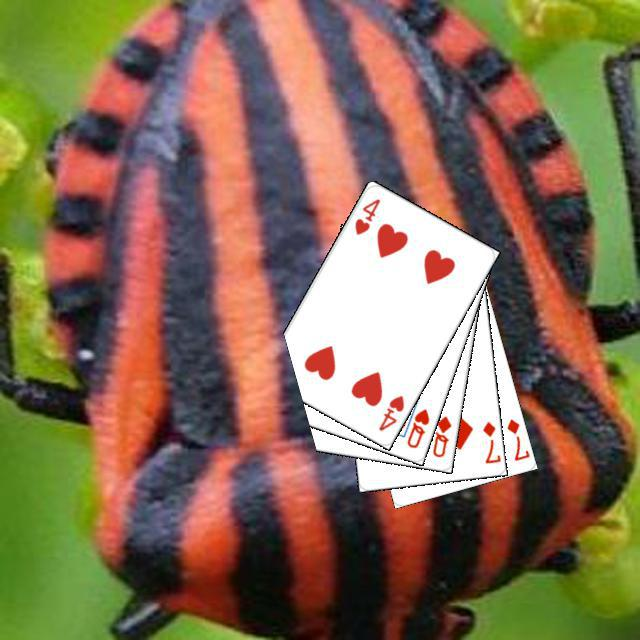4h: (373, 390, 406, 433), (350, 194, 382, 237)
7d: (502, 414, 530, 463), (478, 417, 501, 465)
Qd: (428, 411, 453, 459)
Qh: (402, 403, 431, 450)
